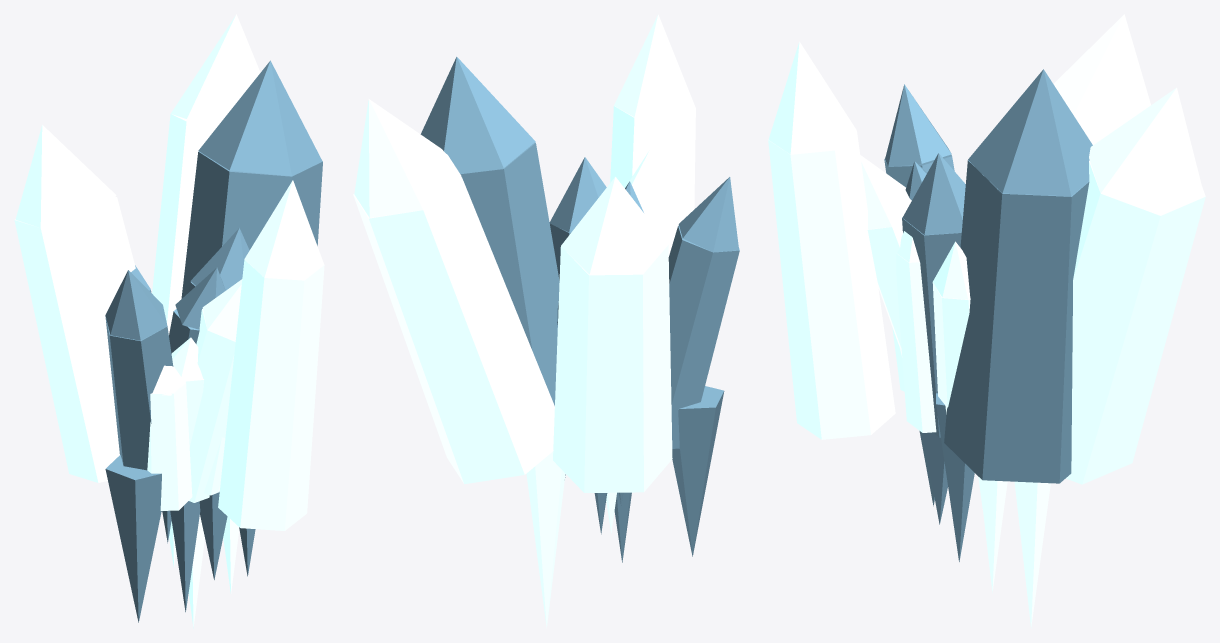
The model's file is SV_IceProps.fbx.
3 renders of one model, left to right at view 1: azimuth 30°, elevation 25°; view 2: azimuth 150°, elevation 25°; view 3: azimuth 270°, elevation 25°, orthographic. The views are drawn at different scales.
Parts seen in each view (by area): view 1: SVA_IceCrystalCluster_IceGlow, SVA_IceCrystalCluster_Glacier, SVA_IcicleCluster_Glacier, SVA_IceShards_IceGlow, SVA_IceShards_Glacier, SVA_IcicleCluster_IceGlow; view 2: SVA_IceCrystalCluster_IceGlow, SVA_IceCrystalCluster_Glacier, SVA_IcicleCluster_Glacier, SVA_IcicleCluster_IceGlow; view 3: SVA_IceCrystalCluster_IceGlow, SVA_IceCrystalCluster_Glacier, SVA_IceShards_IceGlow, SVA_IcicleCluster_IceGlow, SVA_IcicleCluster_Glacier.
Boxes of the visible parts, left/top/right/bottom form: SVA_IceCrystalCluster_IceGlow: left=14, top=14, right=324, bottom=530; SVA_IceCrystalCluster_Glacier: left=105, top=60, right=322, bottom=511; SVA_IcicleCluster_Glacier: left=105, top=455, right=255, bottom=622; SVA_IceShards_IceGlow: left=121, top=271, right=225, bottom=510; SVA_IceShards_Glacier: left=131, top=265, right=225, bottom=353; SVA_IcicleCluster_IceGlow: left=169, top=515, right=239, bottom=628; SVA_IceCrystalCluster_IceGlow: left=353, top=14, right=695, bottom=492; SVA_IceCrystalCluster_Glacier: left=420, top=56, right=739, bottom=448; SVA_IcicleCluster_Glacier: left=565, top=386, right=724, bottom=562; SVA_IcicleCluster_IceGlow: left=526, top=451, right=616, bottom=628; SVA_IceCrystalCluster_IceGlow: left=768, top=14, right=1205, bottom=484; SVA_IceCrystalCluster_Glacier: left=884, top=69, right=1092, bottom=483; SVA_IceShards_IceGlow: left=892, top=231, right=970, bottom=432; SVA_IcicleCluster_IceGlow: left=978, top=477, right=1050, bottom=628; SVA_IcicleCluster_Glacier: left=919, top=393, right=974, bottom=561.
Size of the model in its own units: 13.68 by 26.56 by 17.42.
